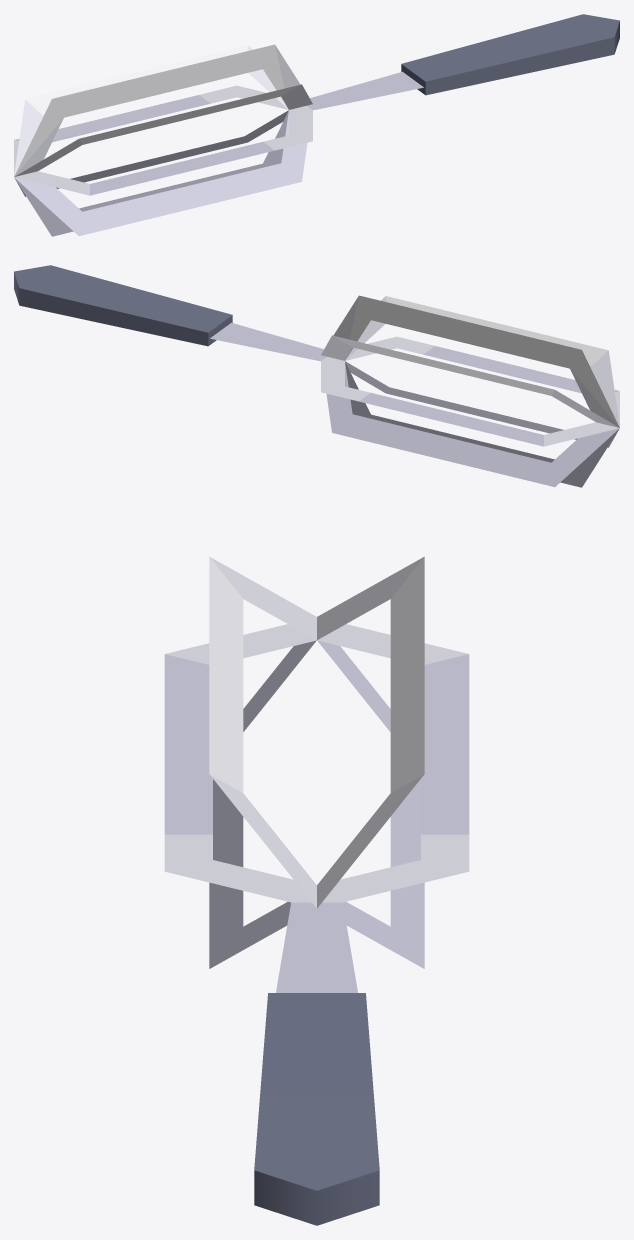
File: batedor.glb
3 renders of one model, top to bottom at view 1: azimuth 30°, elevation 25°; view 2: azimuth 150°, elevation 25°; view 3: azimuth 270°, elevation 25°, orthographic. The views are drawn at different scales.
Visible parts, largest first — view 1: whisk; view 2: whisk; view 3: whisk.
Boxes of the visible parts, x1,y1,x2,y2 form: whisk: (14,14,619,236); whisk: (14,265,619,487); whisk: (164,556,469,1225).
Bounding box in the file's own units: 0.7244 × 0.1576 × 0.1576.
